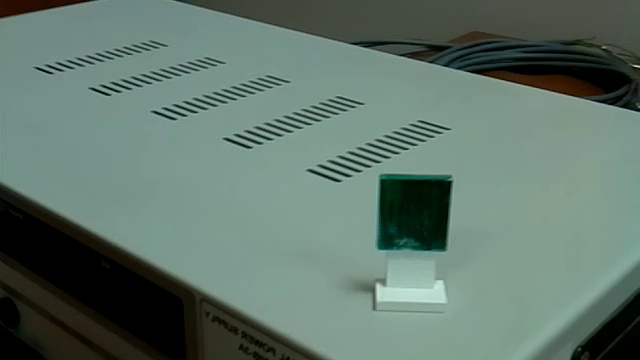rect: (351, 160, 476, 320)
